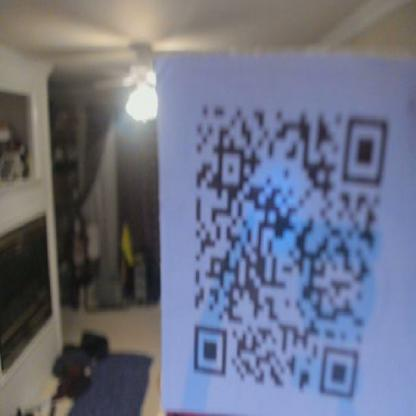qr: (186, 99, 396, 405)
